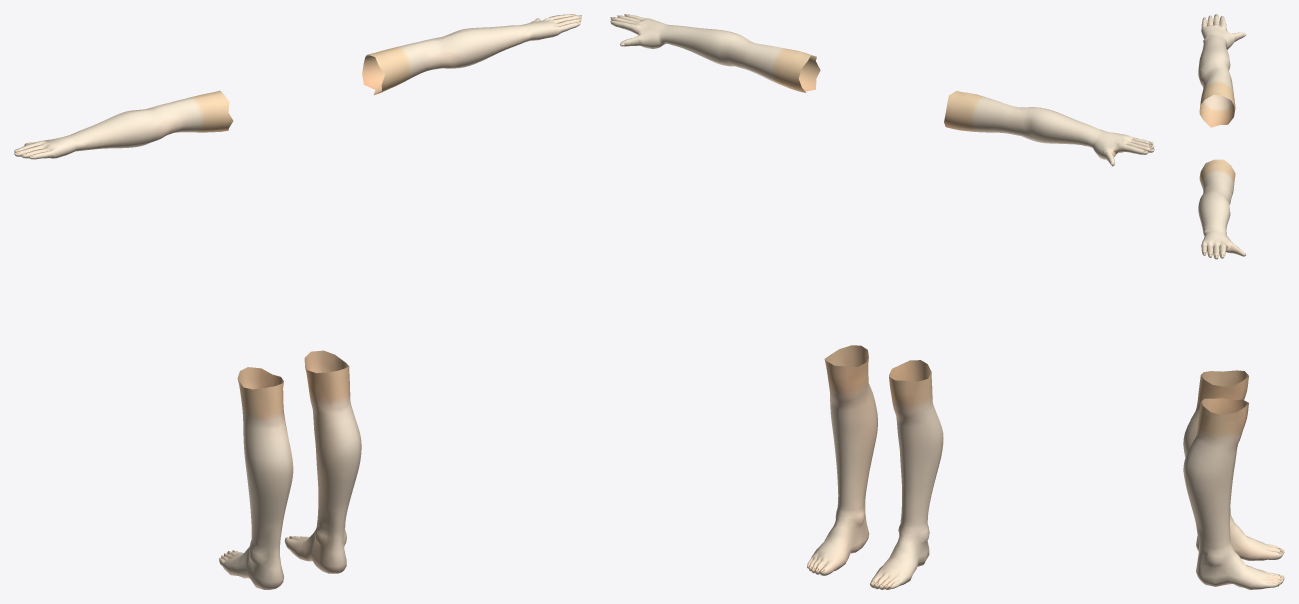
Rendered from Body_baked.obj.
The picture shows the model from 3 angles, left to right: view 1: azimuth 30°, elevation 25°; view 2: azimuth 150°, elevation 25°; view 3: azimuth 270°, elevation 25°; orthographic projection. The views are drawn at different scales.
Size of the model in its own units: 0.8825 by 0.756 by 0.1548.
Materials: 1 (1 with a texture image).
